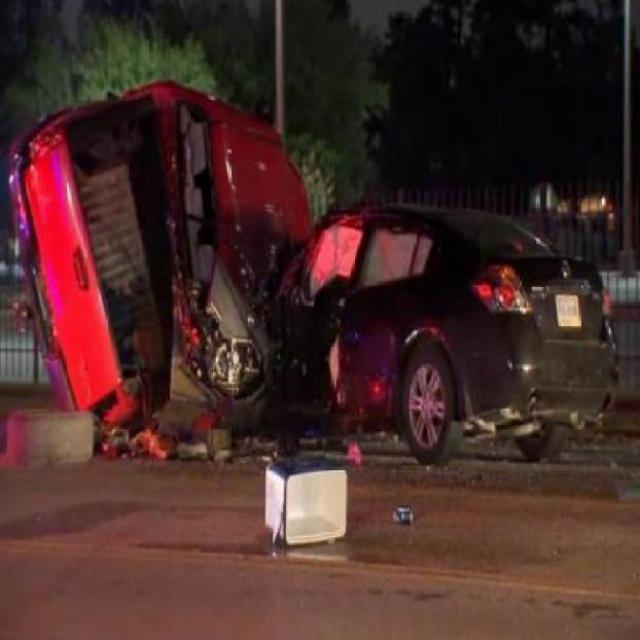accident: (3, 73, 624, 470)
